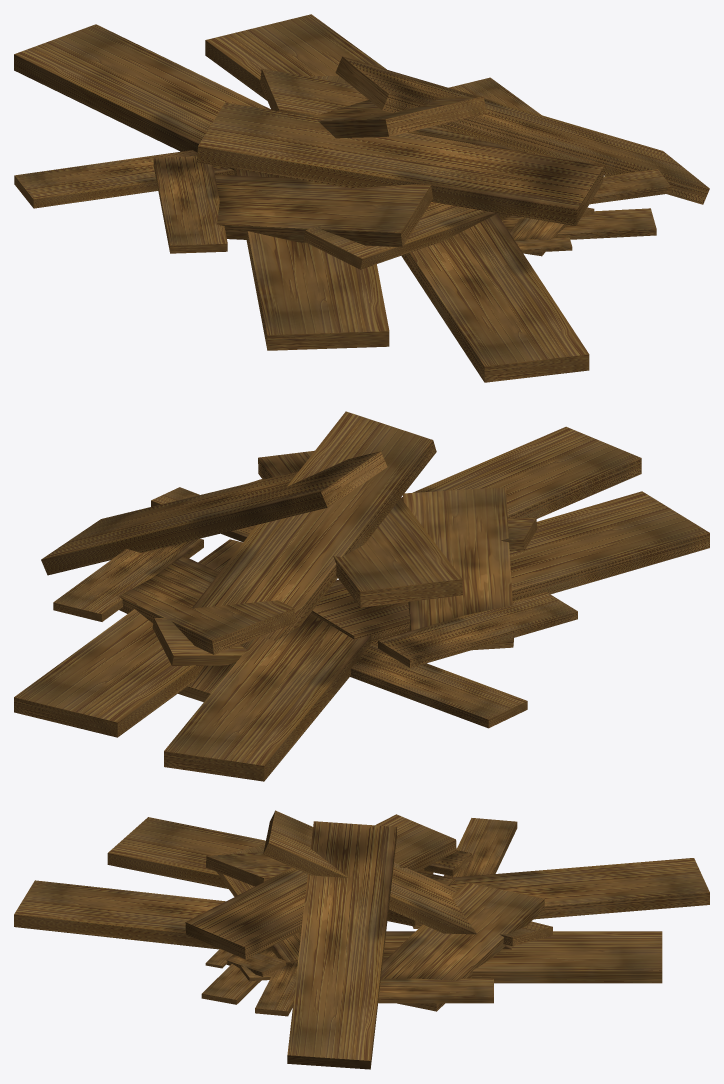
The model's file is planche de bois brûler texturiser.fbx.
The picture shows the model from 3 angles, top to bottom: view 1: azimuth 30°, elevation 25°; view 2: azimuth 150°, elevation 25°; view 3: azimuth 270°, elevation 25°; orthographic projection. The views are drawn at different scales.
Parts seen in each view (by area): view 1: Cube.005; view 2: Cube.005; view 3: Cube.005.
Boxes of the visible parts, left/top/right/bottom form: Cube.005: left=14, top=14, right=709, bottom=382; Cube.005: left=14, top=411, right=709, bottom=781; Cube.005: left=14, top=810, right=709, bottom=1069.
Size of the model in its own units: 109 by 32.78 by 151.
